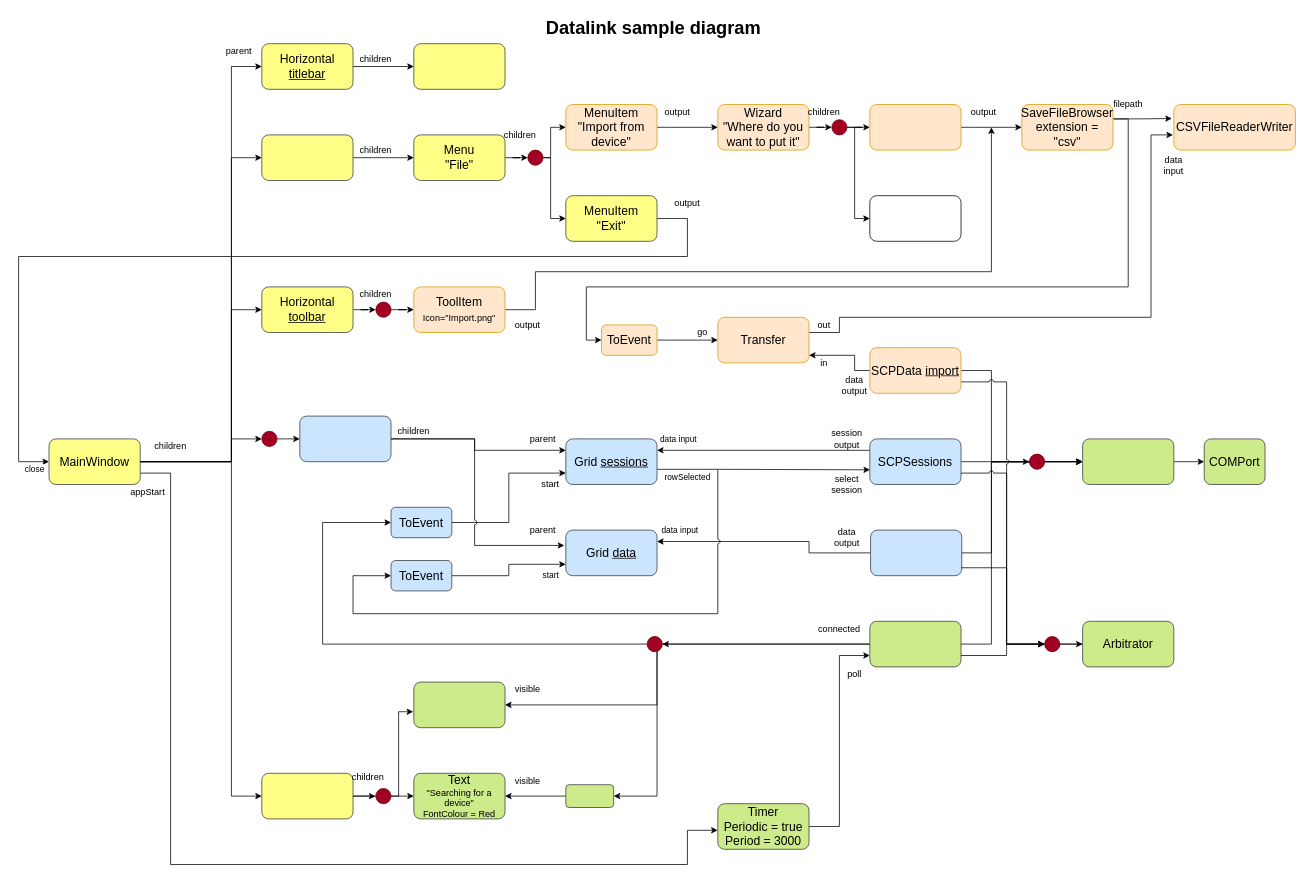
Image size: 1309x884. Some labels were removed from this diagram. Each missing label, with the centre of its shape:
Horizontal mainPanel: pixel 345 438
Horizontal menubar: pixel 307 157
Horizontal statusbar: pixel 307 796
Not: pixel 589 796
SCPData forGrid: pixel 916 552
SCPProtocol: pixel 1128 461
SCPSense: pixel 915 644
Text "Connected" FontColour = Green: pixel 459 704
Text "DataLink": pixel 459 66
WizardItem "Cloud": pixel 915 218
WizardItem "local CSV file": pixel 915 127
